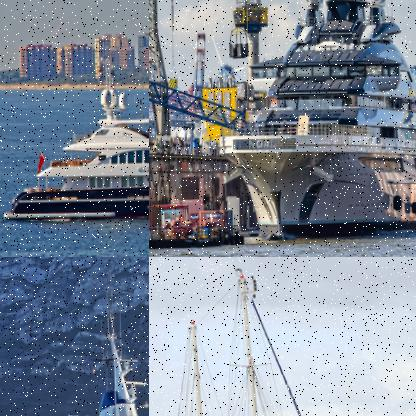Sails Boat: (149, 266, 385, 415)
Yacht: (213, 0, 415, 243), (0, 53, 148, 222), (0, 304, 148, 415)
